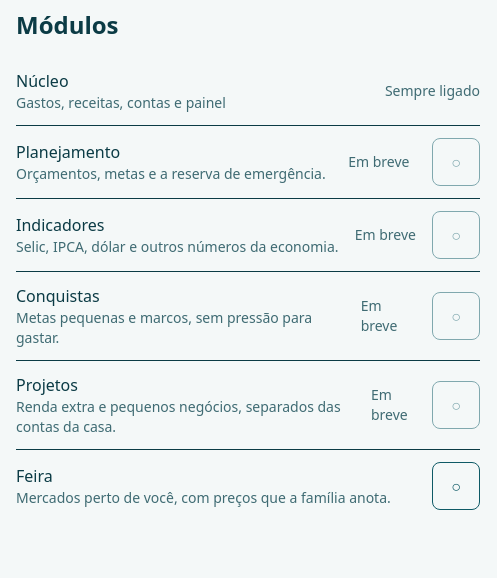
Scenario: ModulesPage › enableShowsNoticeAndLink
This screenshot has width=497, height=578.
What coordinates should you click on to do the following:
click the switch named "Feira"
I would click on:
 (456, 486)
Its box is [432,462,480,510].
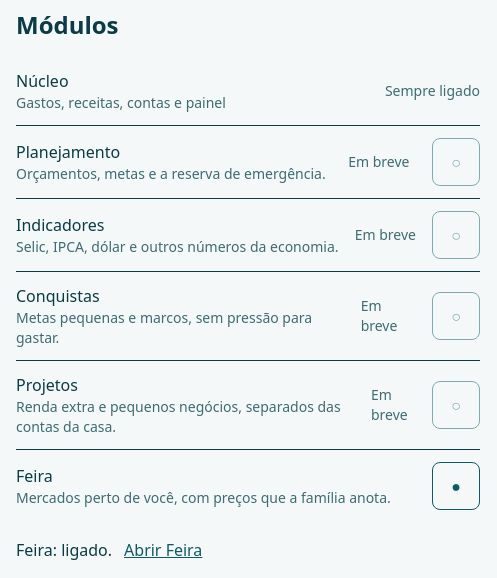
Expected: the message shows "Feira: ligado.", [16,539,112,561]
